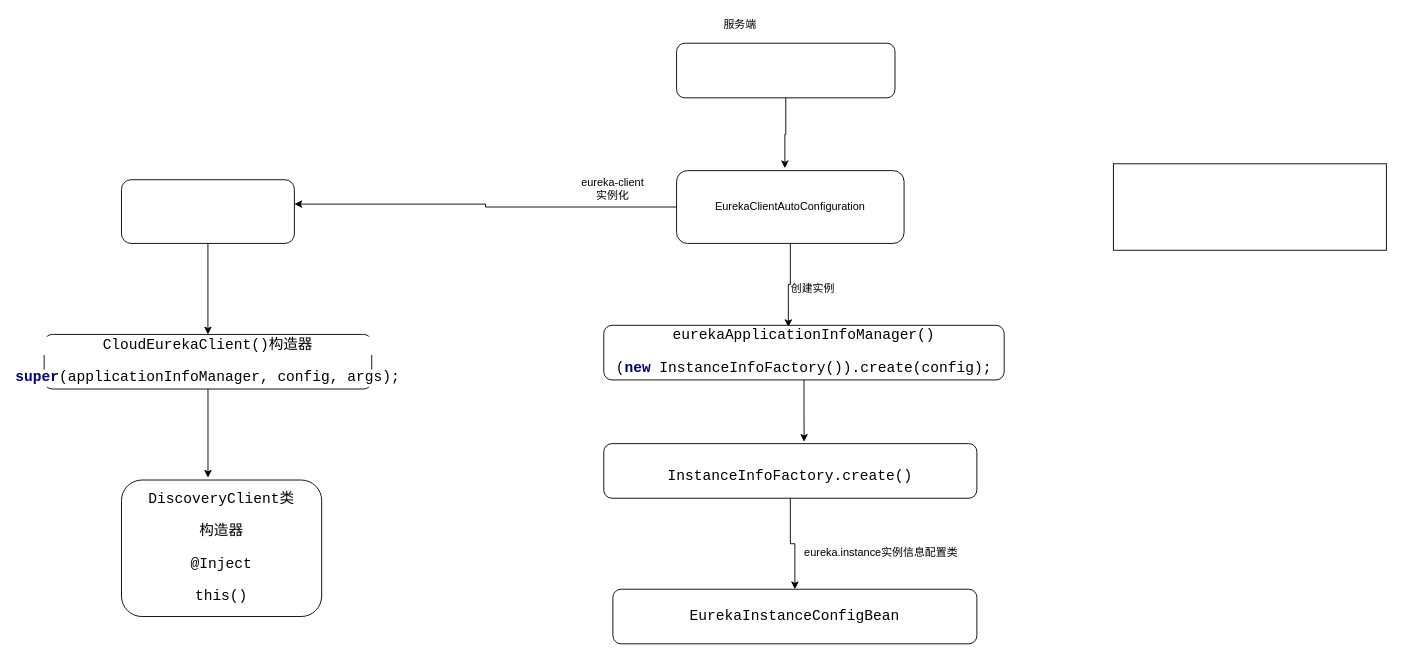
Image size: 1402x660. Some labels were removed from this diagram. Here are the shapes that lost their labels. From the top down, the box of each, then its label:
(676, 42, 895, 98): spring-cloud-netfix-eureka-client spring.factories
(121, 179, 294, 243): eurekaClient() new CloudEurekaClient
(1112, 163, 1386, 250): EurekaSe'rverAutoConfiguration server配置
